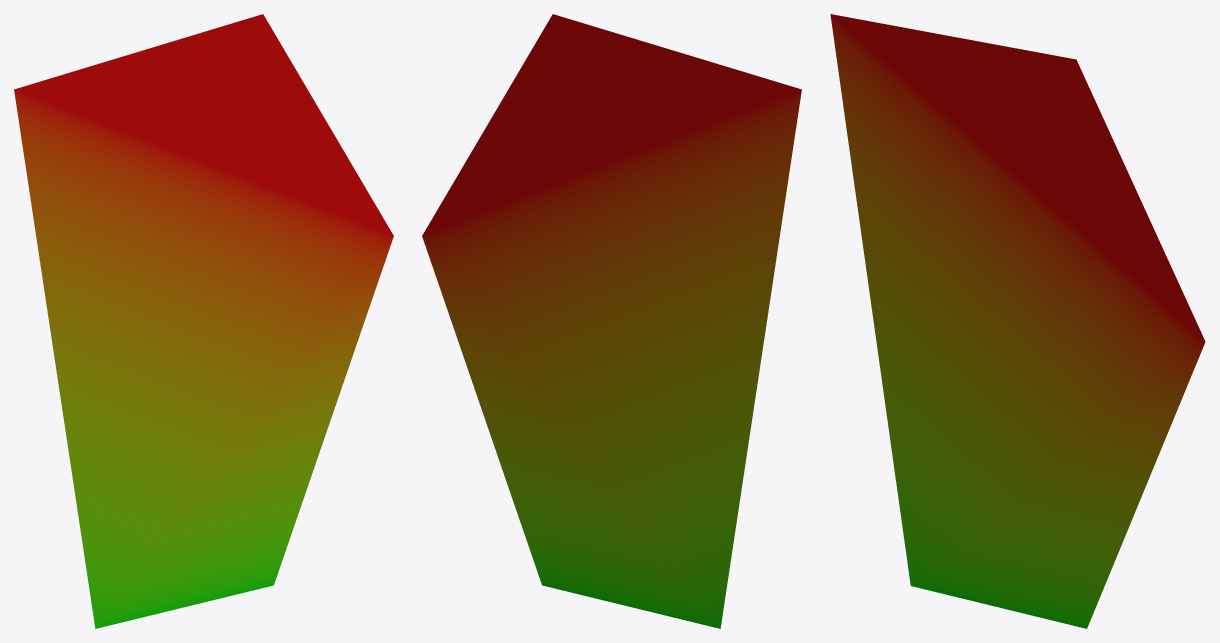
Rendered from Lemongrass_LOD3_Var1_sktne.fbx.
3 renders of one model, left to right at view 1: azimuth 30°, elevation 25°; view 2: azimuth 150°, elevation 25°; view 3: azimuth 330°, elevation 25°, orthographic.
Visible parts, largest first — view 1: _40d3_Var1_LOD3; view 2: _40d3_Var1_LOD3; view 3: _40d3_Var1_LOD3.
Part boxes in pixels (bbox=[...]): _40d3_Var1_LOD3: bbox=[14, 14, 393, 628]; _40d3_Var1_LOD3: bbox=[422, 14, 801, 628]; _40d3_Var1_LOD3: bbox=[830, 14, 1205, 628].
Bounding box in the file's own units: 30.47 × 43.99 × 2.26e-06.
